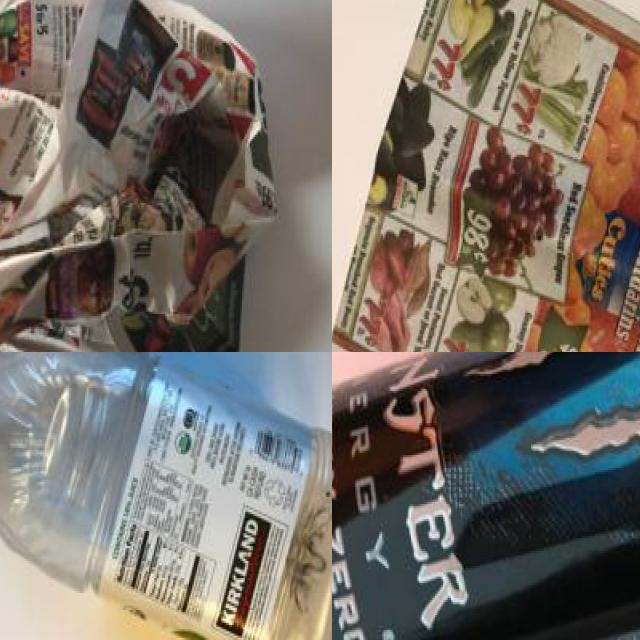paper: (0, 0, 300, 352), (357, 0, 640, 352)
plastic: (0, 352, 332, 640), (332, 352, 640, 640)
